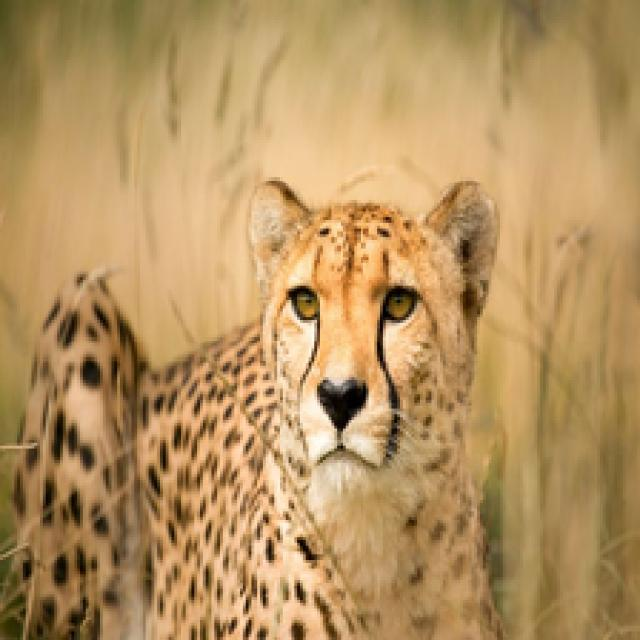cheetah: (6, 171, 534, 640)
